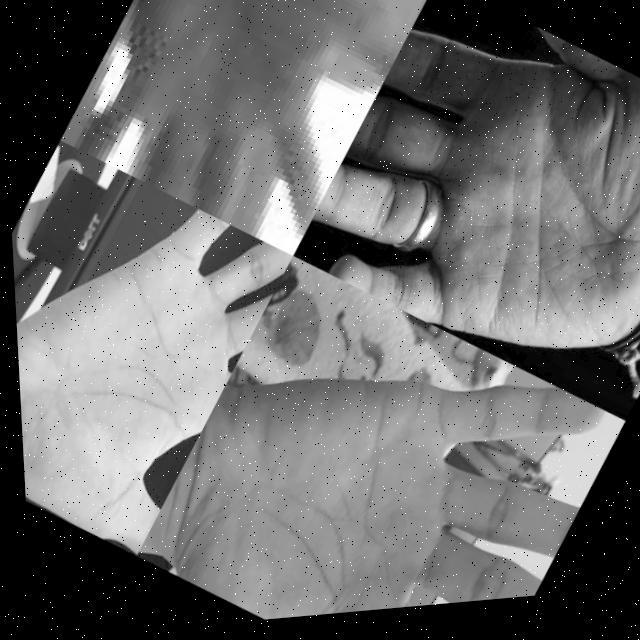no-gloves: (117, 238, 626, 633), (278, 0, 640, 447), (7, 147, 300, 564), (56, 0, 444, 276)
